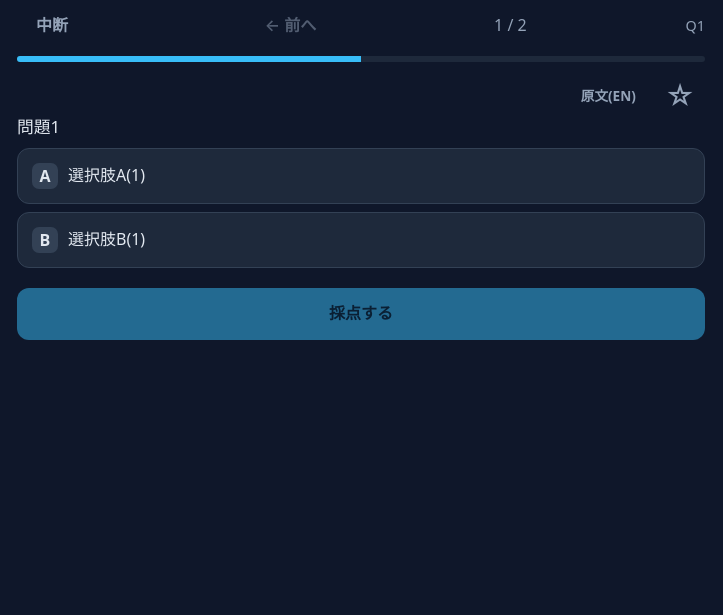
Test: Quiz 結果画面の誤答復習 › 全問正解なら復習ボタンは出ない
Step 1. Click the text "選択肢A(1)" → (106,176), box [68,164,145,186]
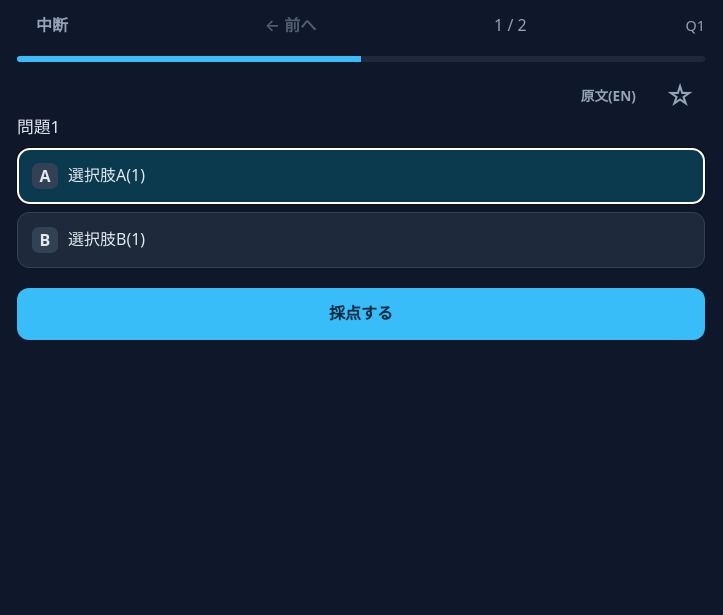
Step 2. Click the button "採点する" → (361,314), box [17,288,705,340]
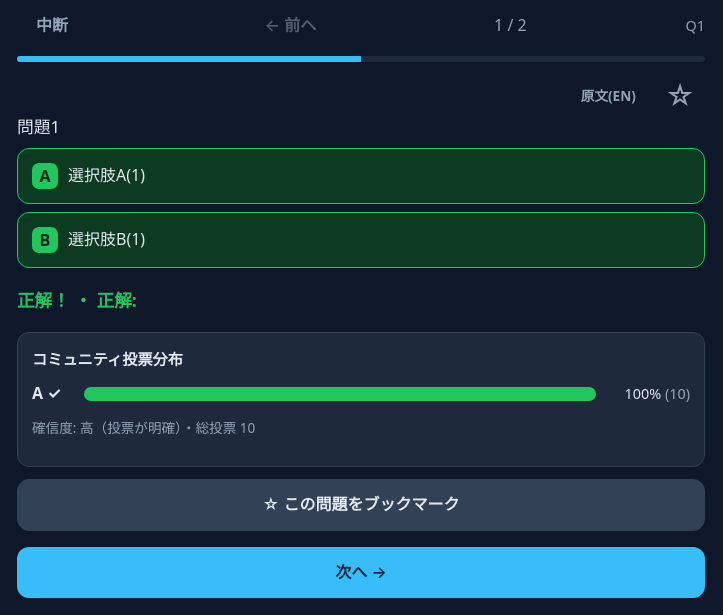
Step 3. Click the button "次へ →" → (361,572), box [17,547,705,598]
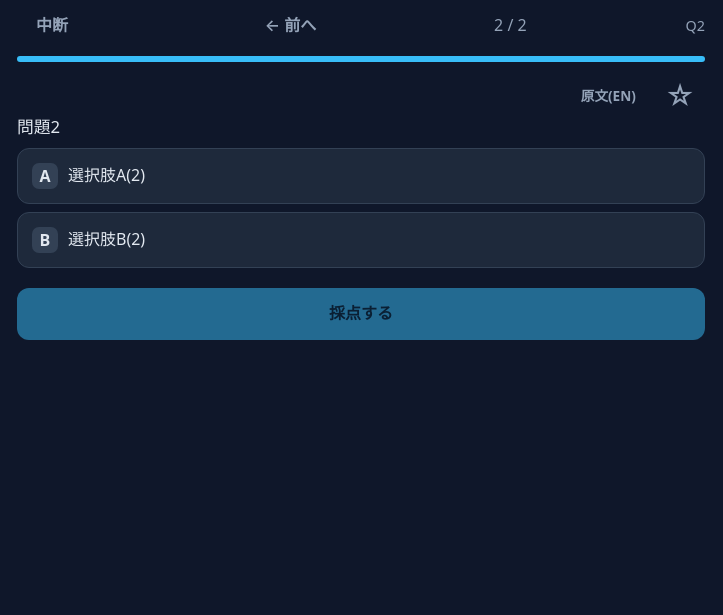
Step 4. Click the text "選択肢B(2)" → (107,240), box [68,228,145,250]
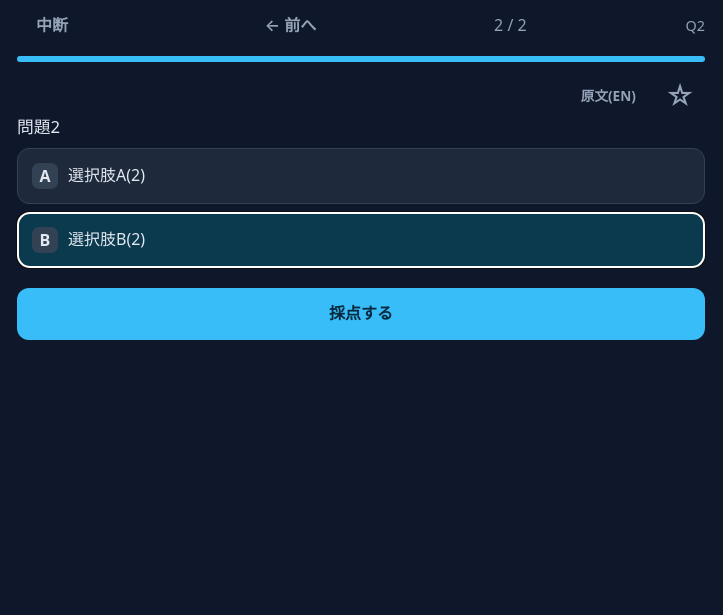
Step 5. Click the button "採点する" → (361,314), box [17,288,705,340]
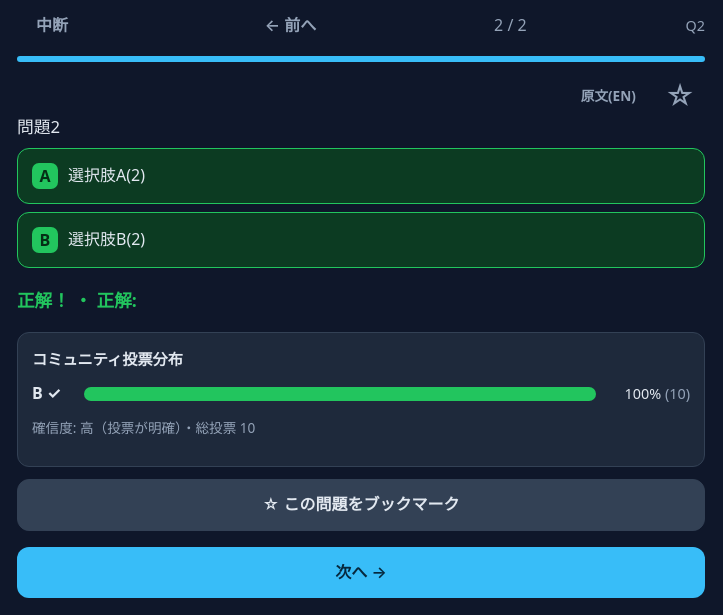
Step 6. Click the button "次へ →" → (361,572), box [17,547,705,598]
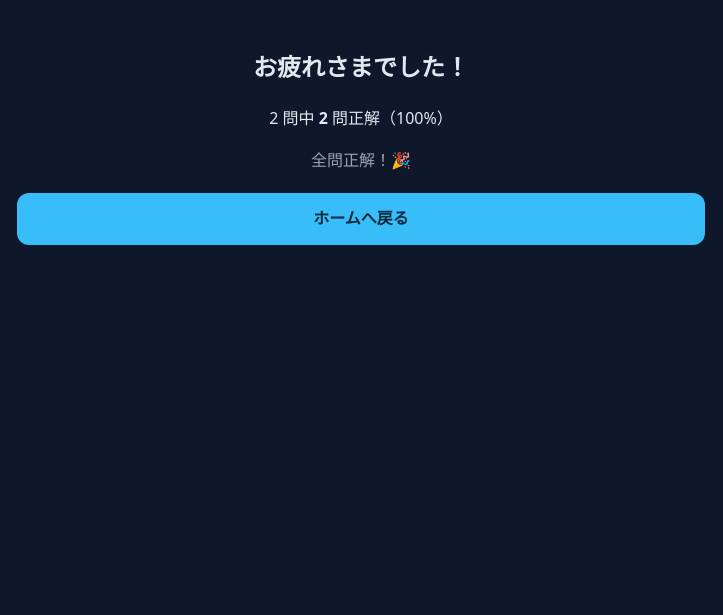
Check: the text "全問正解！🎉" is shown, box [311,149,411,171]
